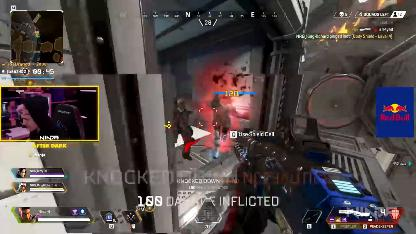Target: (210, 90, 228, 157), (176, 96, 194, 160)
